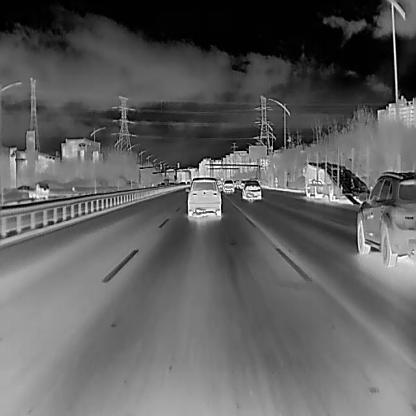car: (354, 170, 416, 266), (184, 176, 222, 216), (240, 179, 262, 200), (16, 184, 33, 195), (222, 178, 234, 193)
truck: (302, 160, 371, 206), (29, 181, 48, 198)
